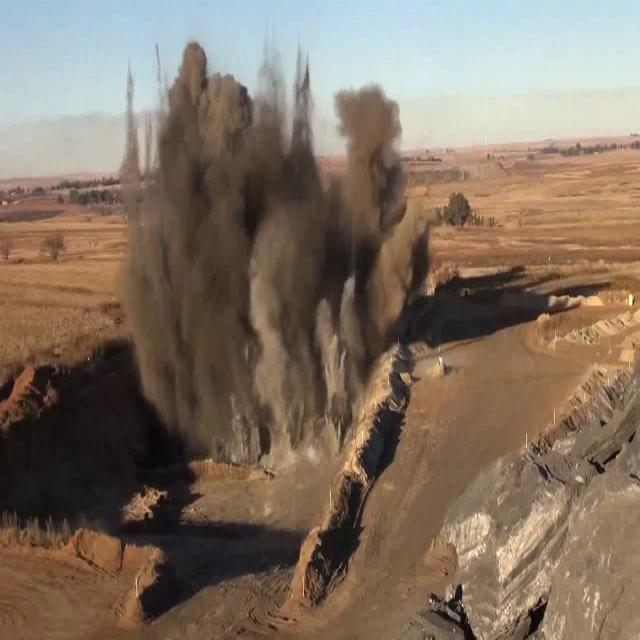explosion: (94, 34, 438, 520)
